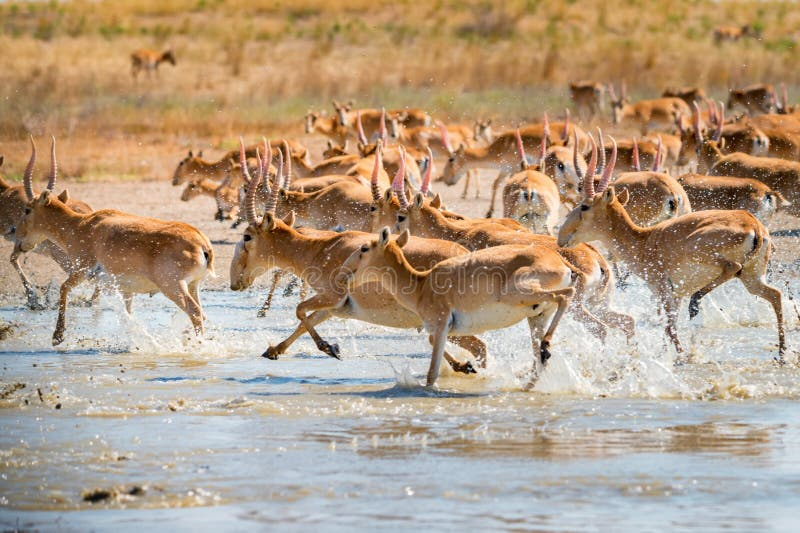saiga: (222, 153, 503, 391), (556, 129, 799, 365), (10, 129, 216, 350), (329, 214, 578, 396)
